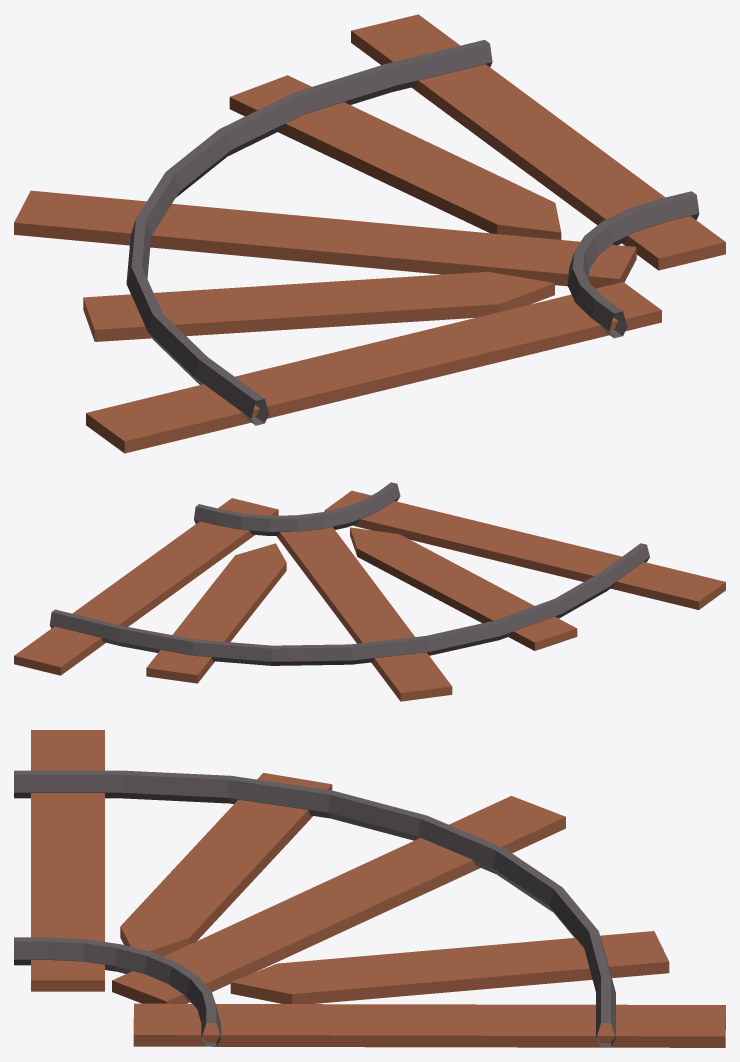
The model's file is Tracks_curve.fbx.
3 renders of one model, top to bottom at view 1: azimuth 30°, elevation 25°; view 2: azimuth 150°, elevation 25°; view 3: azimuth 270°, elevation 25°, orthographic. The views are drawn at different scales.
Visible parts, largest first — view 1: Tracks_curve; view 2: Tracks_curve; view 3: Tracks_curve.
Boxes of the visible parts, x1,y1,x2,y2 form: Tracks_curve: [14, 14, 725, 453]; Tracks_curve: [14, 482, 725, 701]; Tracks_curve: [14, 730, 725, 1047].
Size of the model in its own units: 371 by 15.62 by 361.
